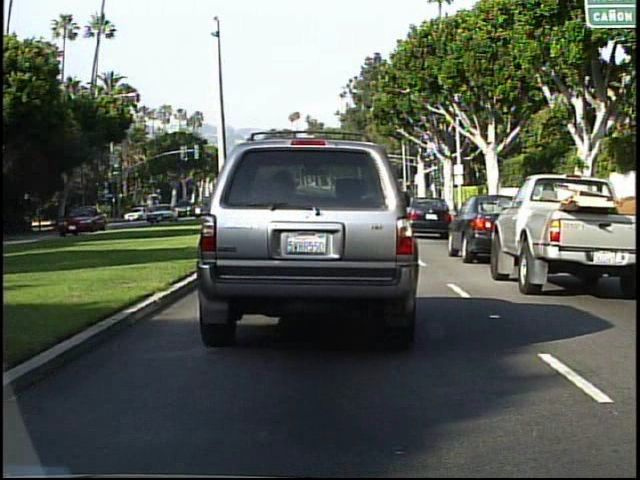person: (70, 206, 80, 226)
